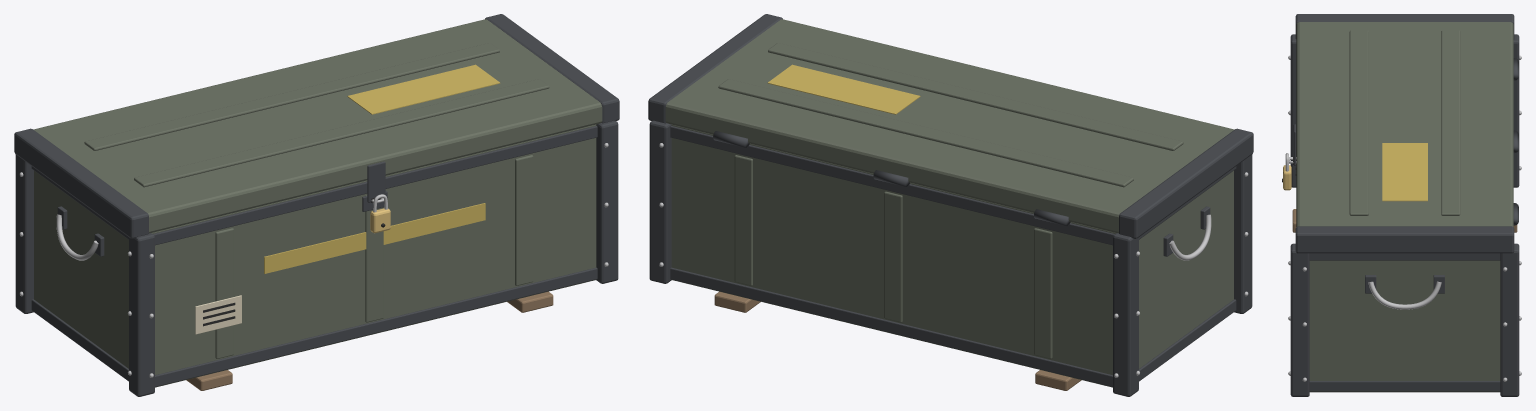
Rendered from IronChest.fbx.
3 renders of one model, left to right at view 1: azimuth 30°, elevation 25°; view 2: azimuth 150°, elevation 25°; view 3: azimuth 270°, elevation 25°, orthographic. The views are drawn at different scales.
Visible parts, largest first — view 1: Body, Lid, Lock; view 2: Body, Lid; view 3: Lid, Body, Lock.
Part boxes in pixels (x1,y1,x2,y2): Body: (15, 120, 618, 396); Lid: (14, 14, 619, 238); Lock: (370, 194, 390, 233); Body: (649, 120, 1252, 396); Lid: (648, 14, 1253, 238); Lid: (1293, 14, 1518, 253); Body: (1288, 34, 1521, 396); Lock: (1282, 153, 1291, 190).
Size of the model in its own units: 1.39 by 0.512 by 0.63.
